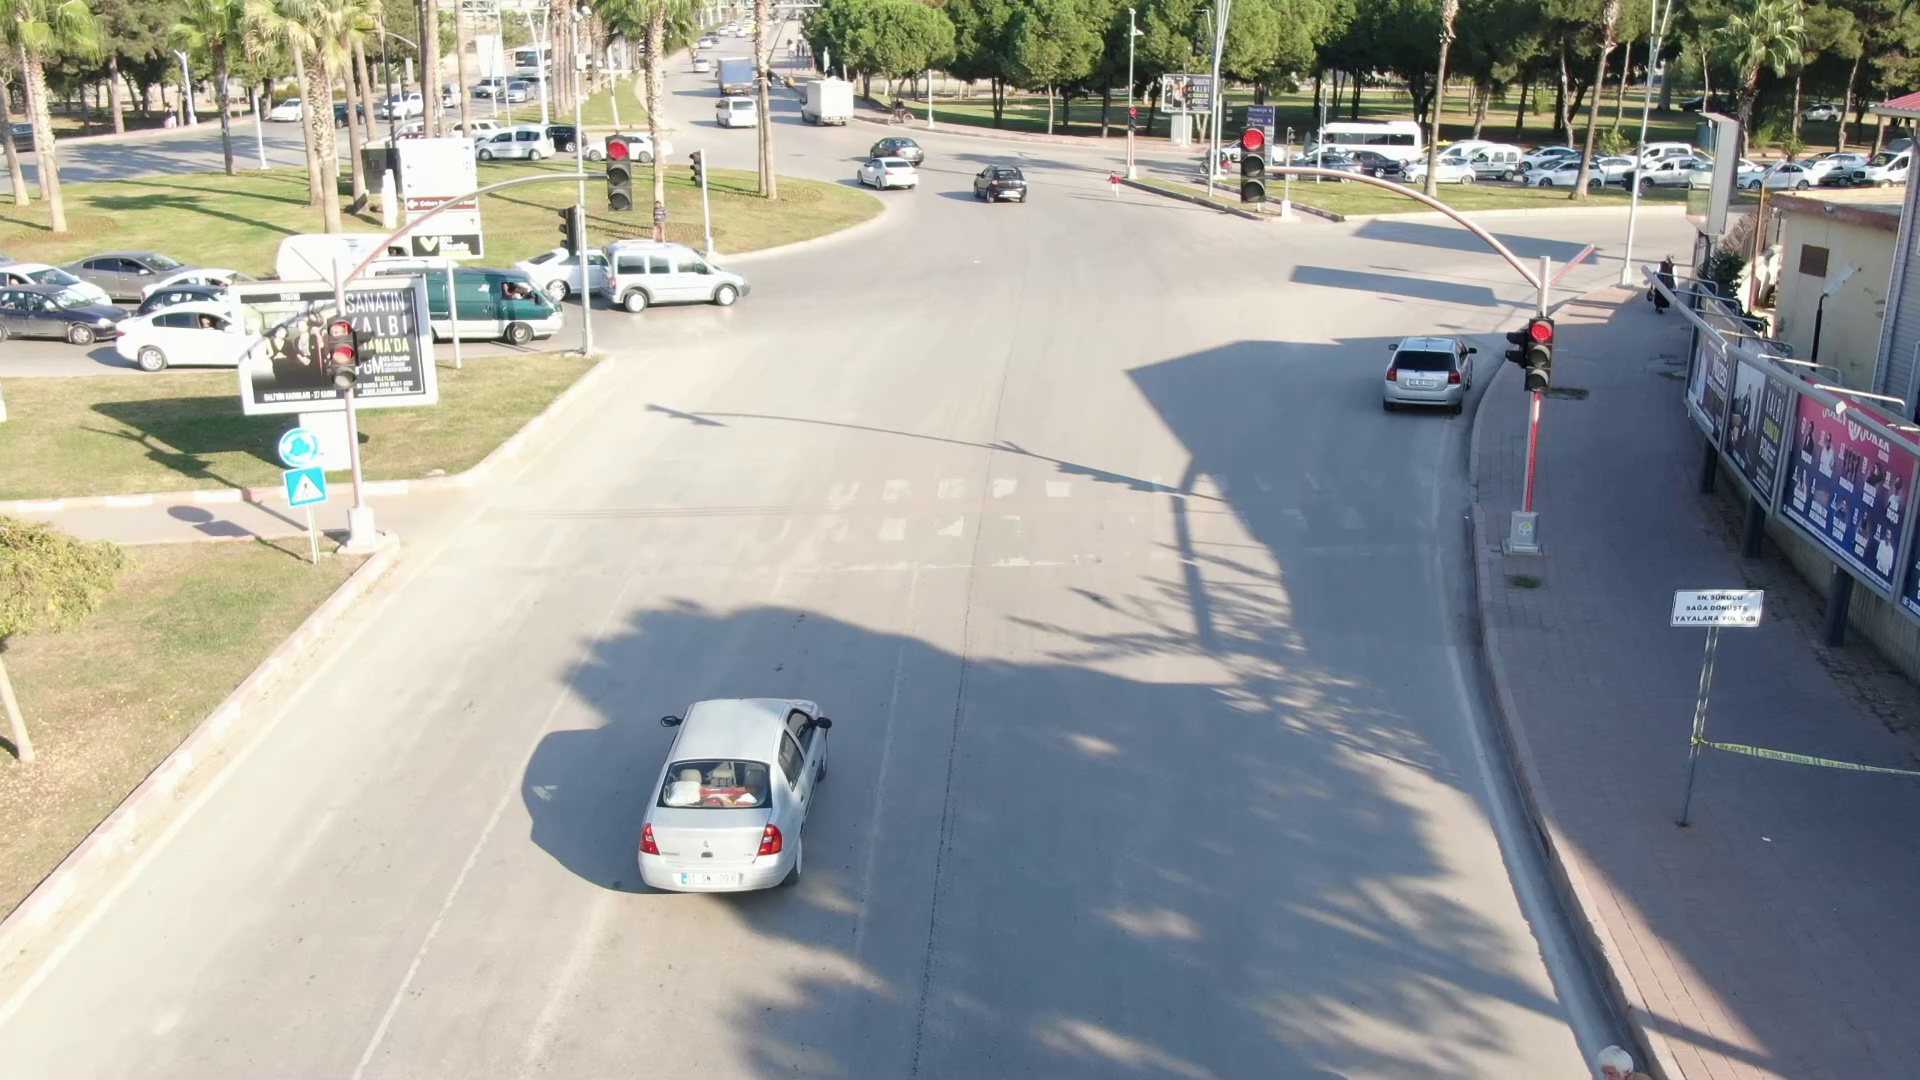car: (613, 676, 874, 914), (589, 233, 781, 342), (1356, 310, 1485, 436), (956, 153, 1038, 216)
